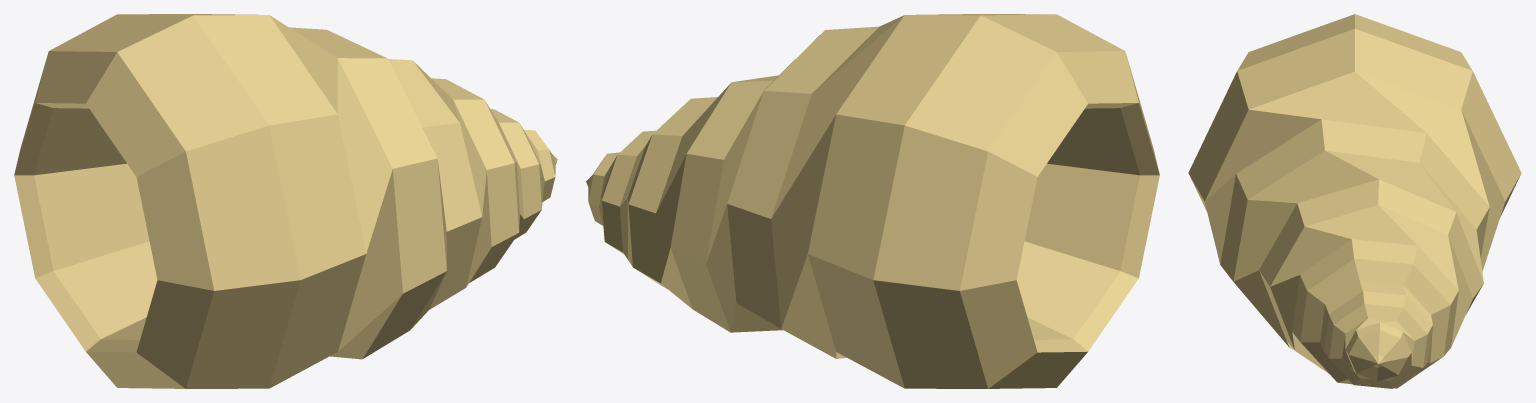
Rendered from Shell.fbx.
3 views of the same model, side by side, from view 1: azimuth 30°, elevation 25°; view 2: azimuth 150°, elevation 25°; view 3: azimuth 270°, elevation 25° (orthographic). The views are drawn at different scales.
Visible parts, largest first — view 1: ShellMesh; view 2: ShellMesh; view 3: ShellMesh.
Part boxes in pixels (bbox=[...]): ShellMesh: bbox=[14, 14, 557, 388]; ShellMesh: bbox=[586, 14, 1159, 388]; ShellMesh: bbox=[1188, 14, 1521, 388].
Size of the model in its own units: 3.93 by 2.87 by 3.
